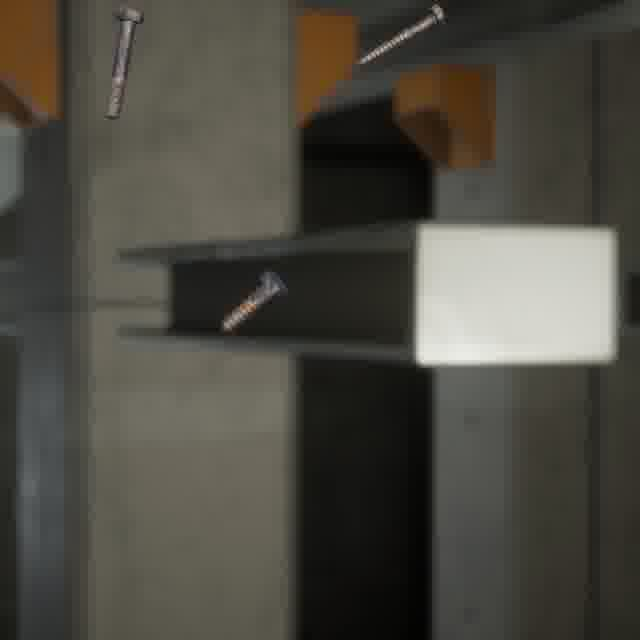bolt: (353, 1, 451, 70), (101, 3, 148, 123), (217, 266, 291, 336)
